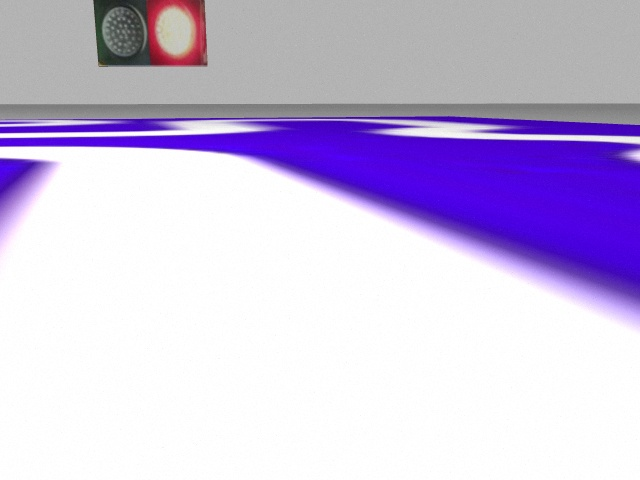red: (146, 1, 208, 67)
